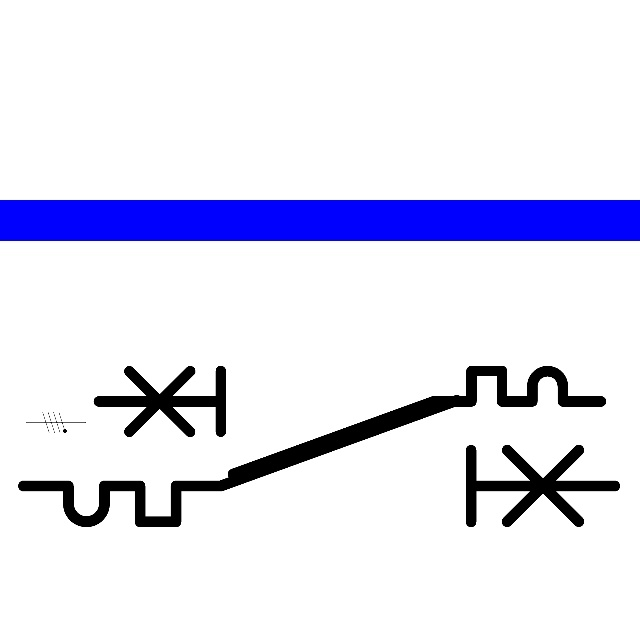interruptor_termomagnetico: (8, 385, 630, 537), (85, 358, 613, 487)
